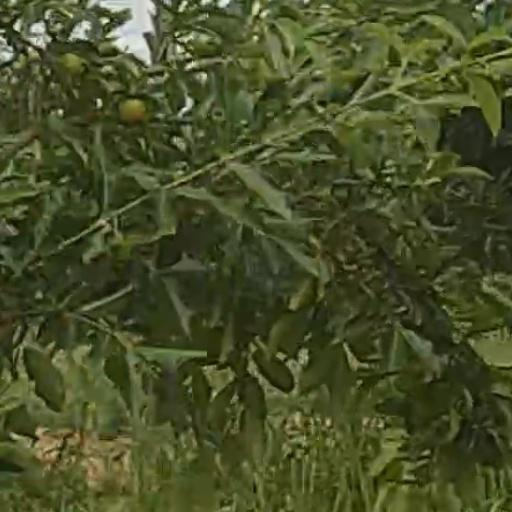acerola_verde: (116, 97, 146, 121)
